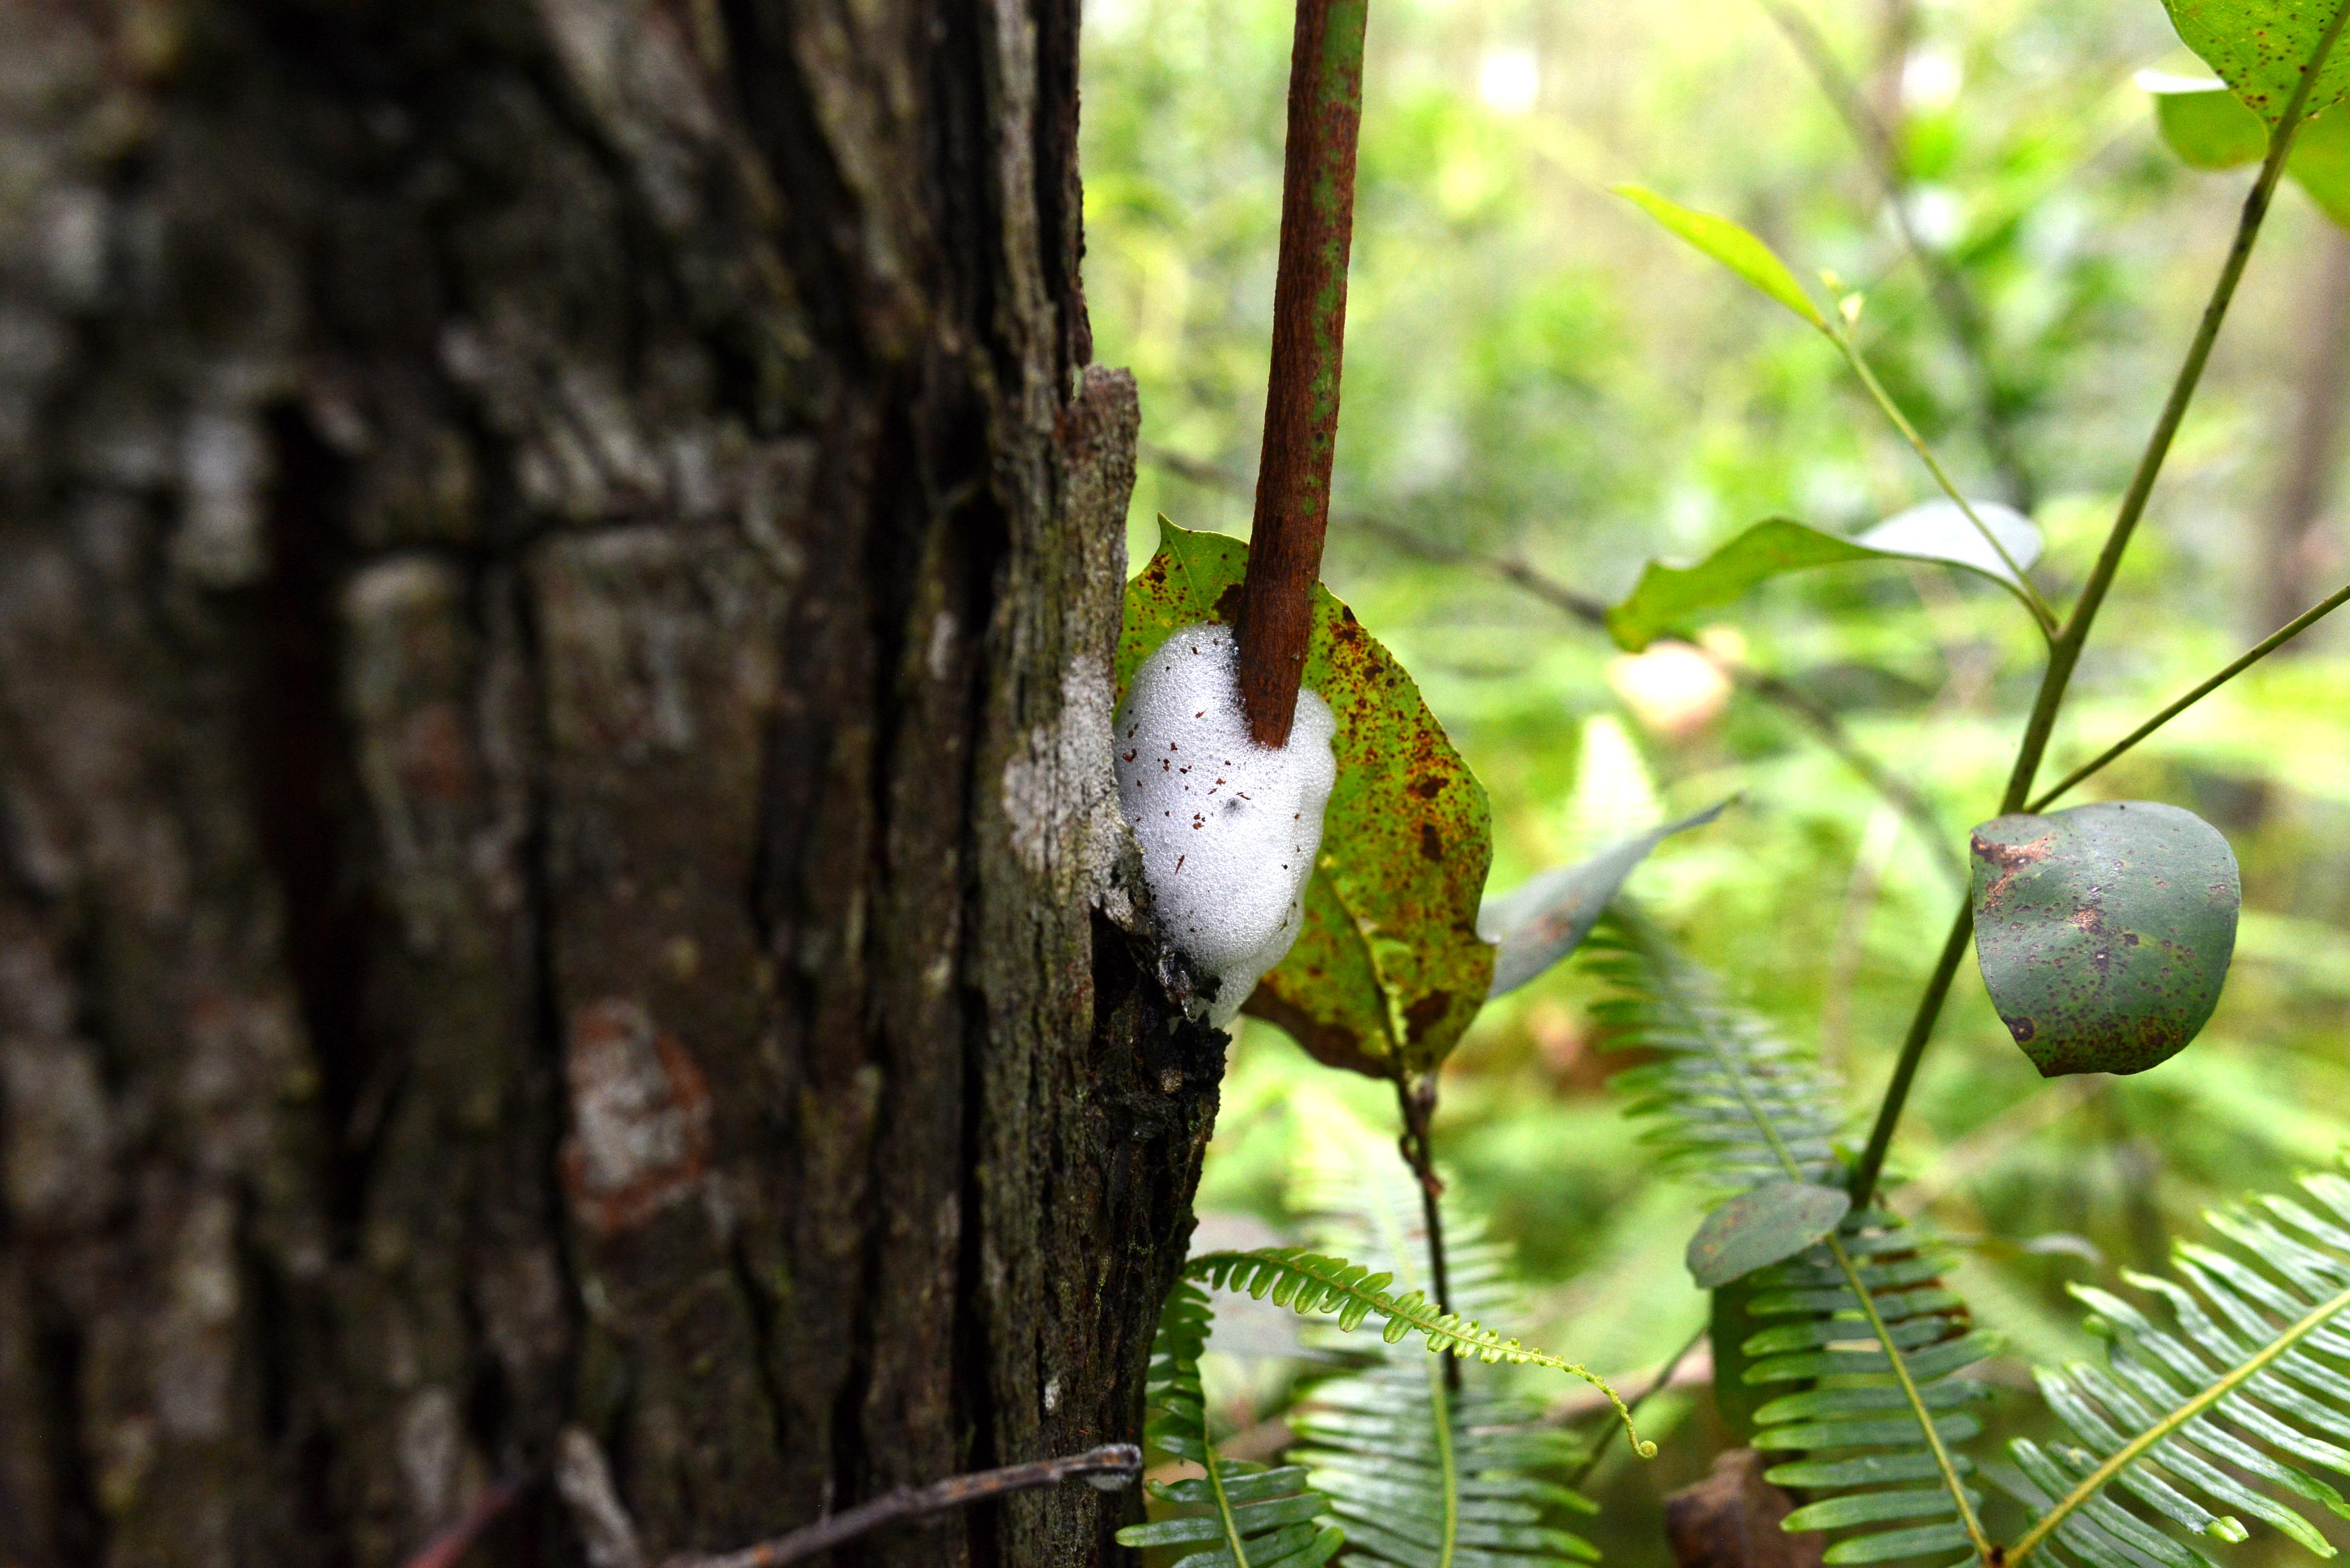Ceratocystis - Bubble: (1041, 562, 1353, 1036)
